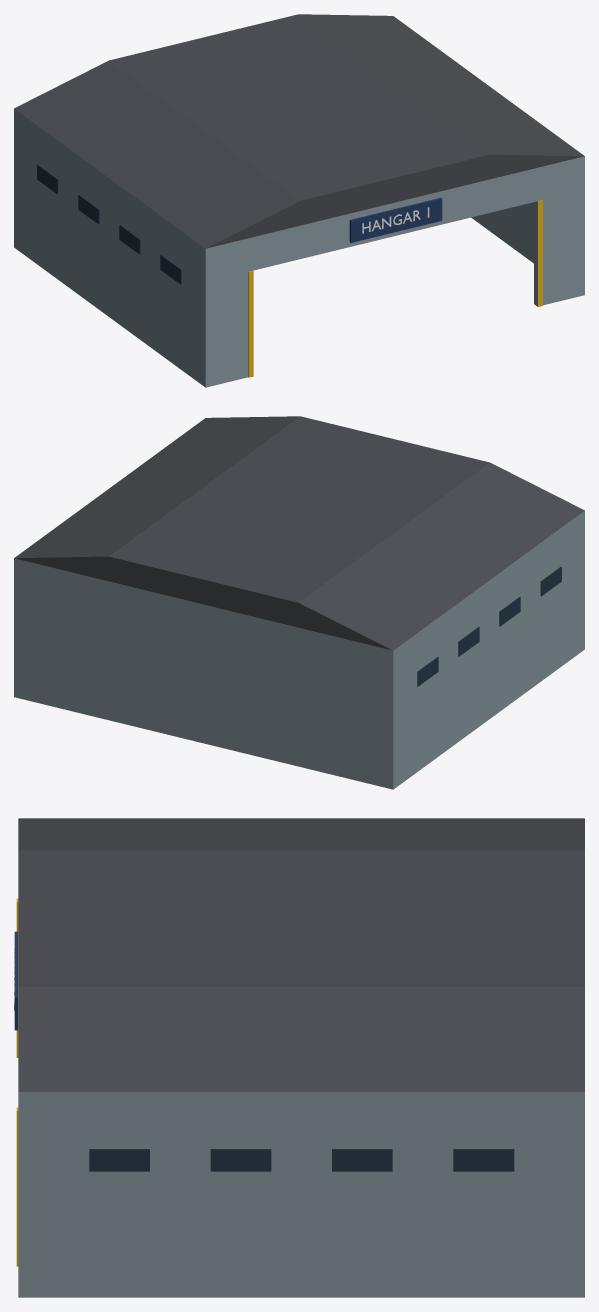
Rendered from hangar.glb.
3 views of the same model, one above another, from view 1: azimuth 30°, elevation 25°; view 2: azimuth 150°, elevation 25°; view 3: azimuth 270°, elevation 25° (orthographic). The views are drawn at different scales.
Parts seen in each view (by area): view 1: hangar_Body, hangar_SignBoard; view 2: hangar_Body; view 3: hangar_Body.
Boxes of the visible parts, x1=… form: hangar_Body: x1=14, y1=14, x2=584, y2=387; hangar_SignBoard: x1=349, y1=197, x2=442, y2=242; hangar_Body: x1=14, y1=416, x2=584, y2=789; hangar_Body: x1=16, y1=818, x2=584, y2=1297.
Bounding box in the file's own units: 32.14 × 13.2 × 28.22.
